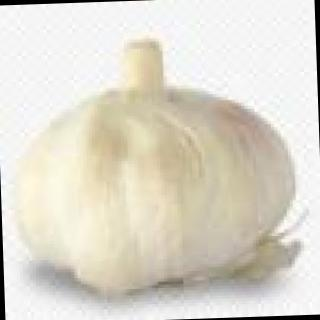Bawang Putih: (7, 47, 306, 288)
